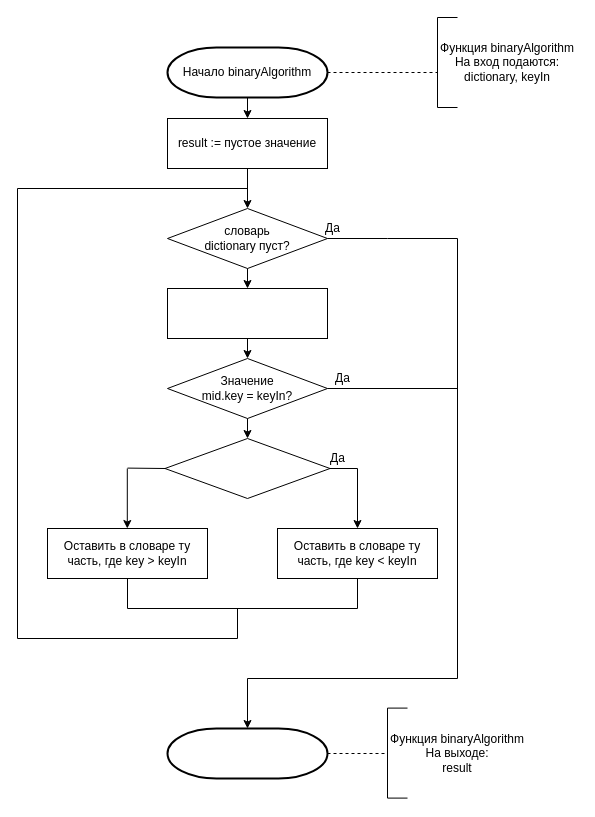
This 595x817 diagram has some shape labels left out. Each missing label, with the box of its shape:
mid := len(dictionary) / 2: (166, 288, 328, 338)
Значение mid.key < keyIn?: (164, 438, 330, 498)
Конец binaryAlgorithm: (166, 727, 328, 779)
